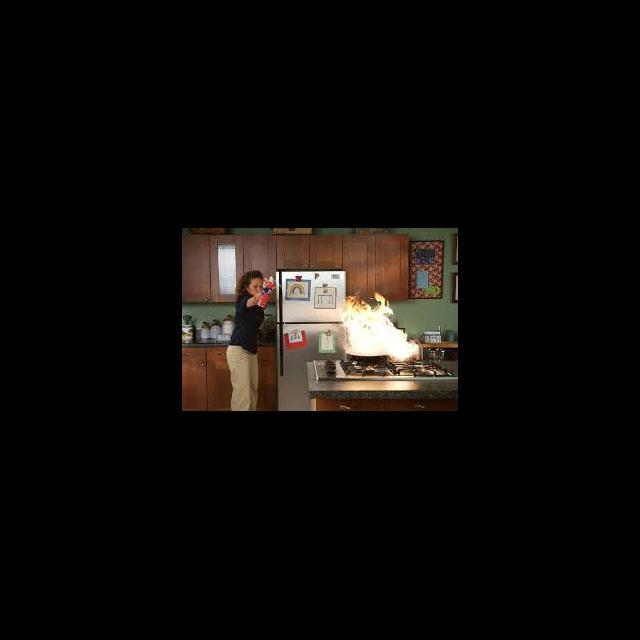Fire: (337, 288, 420, 363)
